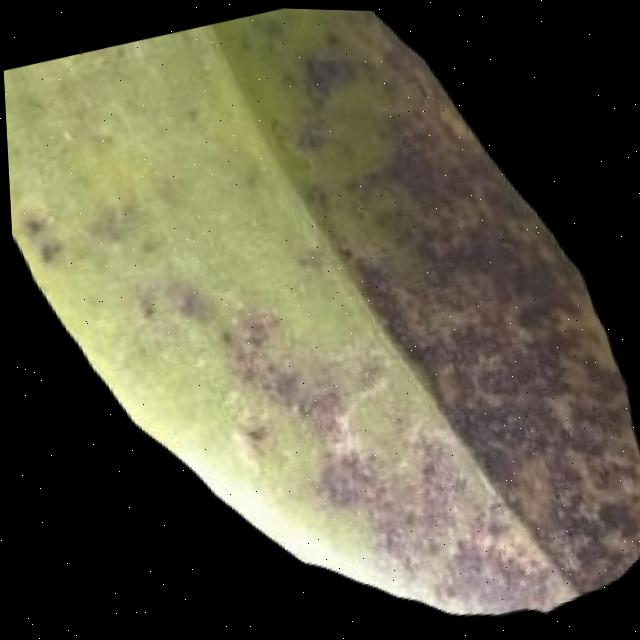mite: (265, 32, 413, 196), (295, 40, 367, 104), (16, 204, 67, 266), (292, 117, 329, 153), (33, 232, 65, 264), (133, 224, 167, 254), (237, 416, 270, 444), (19, 210, 47, 236)
spots: (3, 7, 640, 640)
